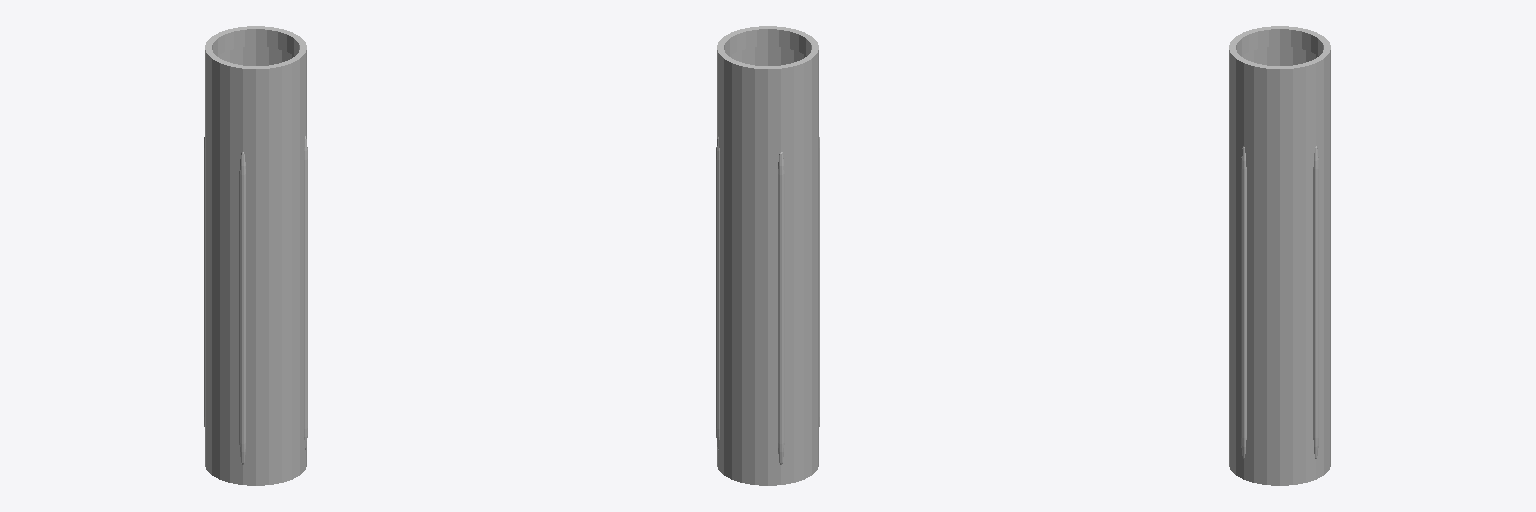
Rendered from Titan1_FuelTank_FirstStage.obj.
3 views of the same model, side by side, from view 1: azimuth 30°, elevation 25°; view 2: azimuth 150°, elevation 25°; view 3: azimuth 270°, elevation 25° (orthographic).
Visible parts, largest first — view 1: Titan1_Stage1_Fuel4, Titan1_Stage1_Fuel4 FuelTankRib21, Titan1_Stage1_Fuel4 FuelTankRib; view 2: Titan1_Stage1_Fuel4, Titan1_Stage1_Fuel4 FuelTankRib22, Titan1_Stage1_Fuel4 FuelTankRib23; view 3: Titan1_Stage1_Fuel4, Titan1_Stage1_Fuel4 FuelTankRib, Titan1_Stage1_Fuel4 FuelTankRib23.
Part boxes in pixels (x1,y1,x2,y2): Titan1_Stage1_Fuel4: (205, 26, 306, 485); Titan1_Stage1_Fuel4 FuelTankRib21: (239, 152, 245, 464); Titan1_Stage1_Fuel4 FuelTankRib: (304, 136, 307, 449); Titan1_Stage1_Fuel4: (717, 26, 818, 485); Titan1_Stage1_Fuel4 FuelTankRib22: (778, 152, 784, 464); Titan1_Stage1_Fuel4 FuelTankRib23: (716, 136, 719, 449); Titan1_Stage1_Fuel4: (1229, 26, 1330, 485); Titan1_Stage1_Fuel4 FuelTankRib: (1241, 146, 1246, 458); Titan1_Stage1_Fuel4 FuelTankRib23: (1313, 146, 1318, 458).
Bounding box in the file's own units: 1875 × 8397 × 1875.